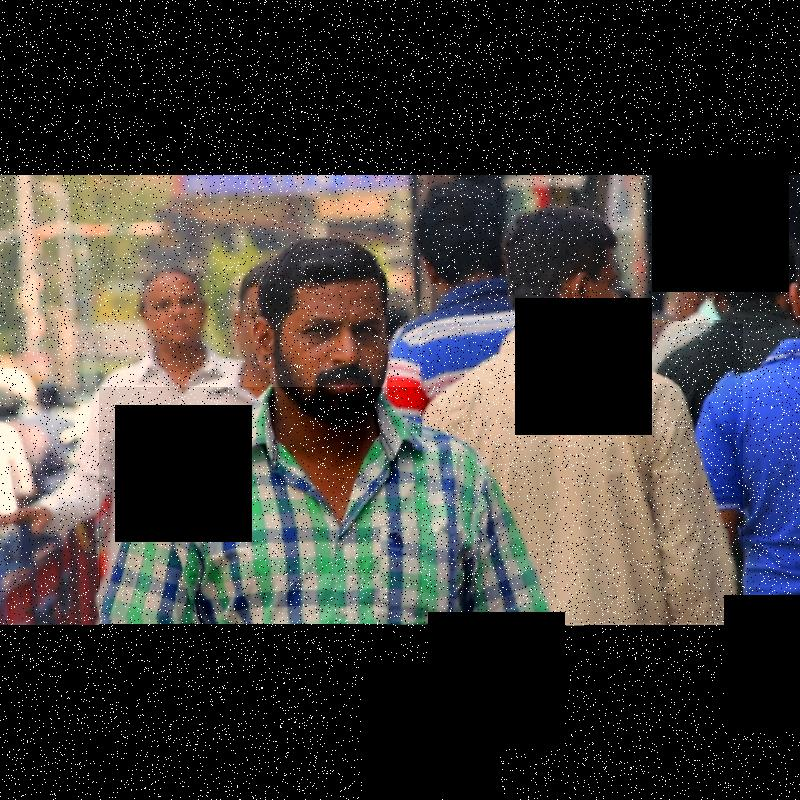Shirt: (99, 388, 557, 627), (422, 324, 743, 623)
